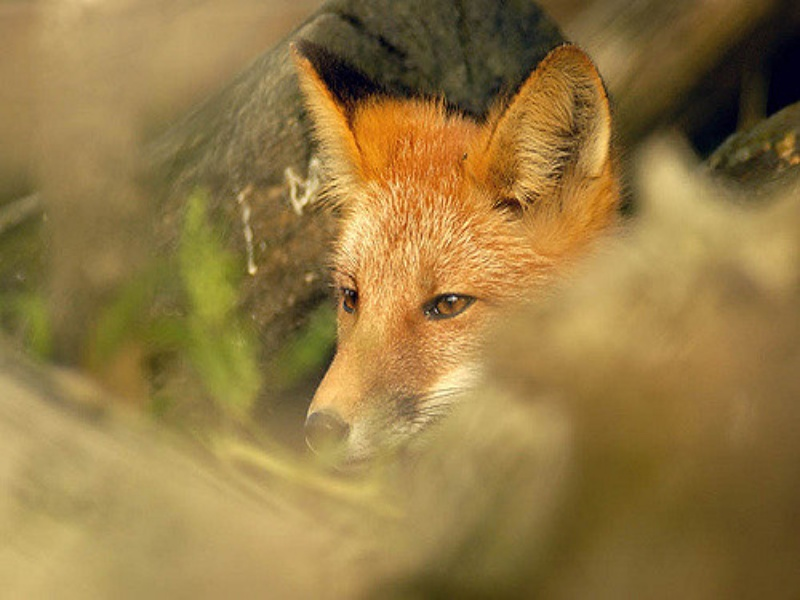fox: (267, 40, 630, 480)
